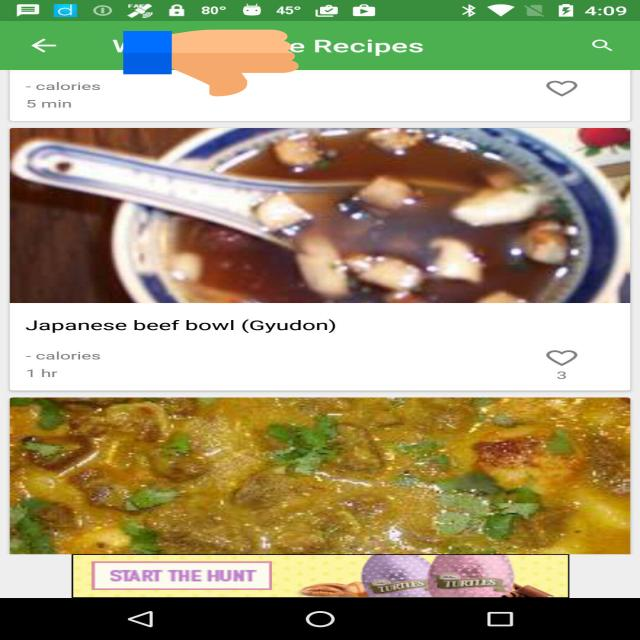obstruction: (123, 28, 299, 98)
